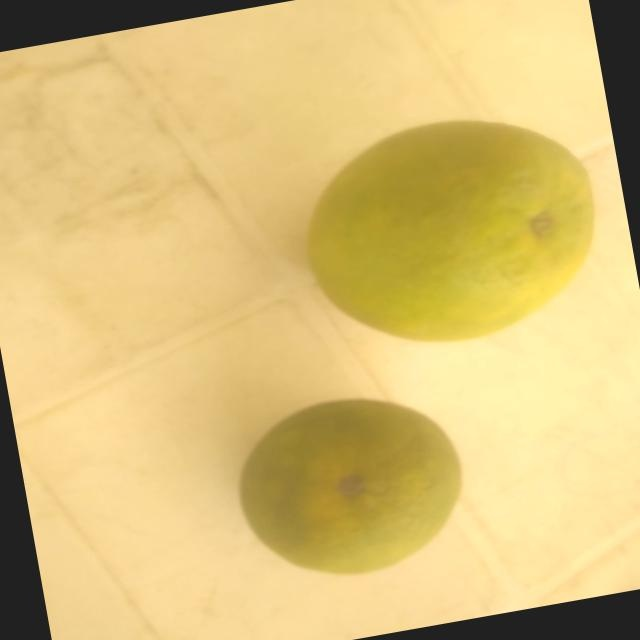agrume: (217, 383, 487, 599)
